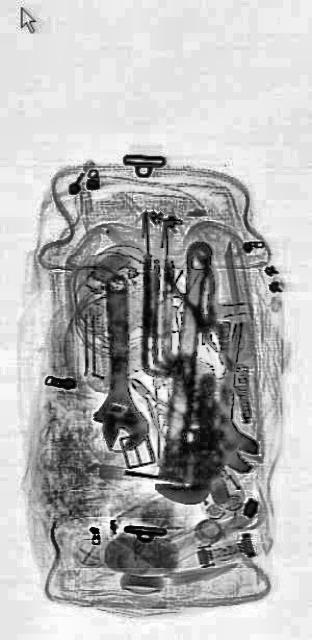Pliers: (161, 224, 235, 374)
Wrench: (90, 270, 148, 452)
